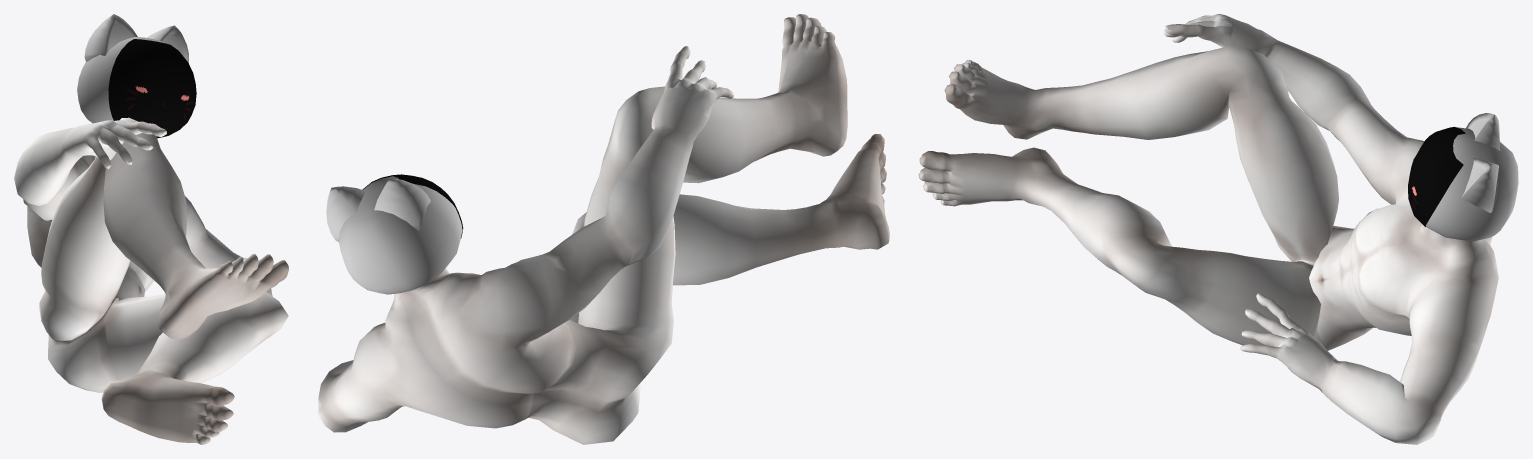
3 renders of one model, left to right at view 1: azimuth 30°, elevation 25°; view 2: azimuth 150°, elevation 25°; view 3: azimuth 270°, elevation 25°, orthographic. The views are drawn at different scales.
Visible parts, largest first — view 1: Muscle_Body, ______?001, Cat_Head; view 2: Muscle_Body, Cat_Head; view 3: Muscle_Body, Cat_Head, ______?001.
Boxes of the visible parts, x1,y1,x2,y2 form: Muscle_Body: [14, 117, 288, 444]; ______?001: [108, 39, 196, 138]; Cat_Head: [77, 14, 188, 123]; Muscle_Body: [317, 14, 889, 444]; Cat_Head: [326, 176, 462, 294]; Muscle_Body: [918, 14, 1498, 444]; Cat_Head: [1425, 113, 1518, 241]; ______?001: [1408, 126, 1465, 226].
Size of the model in its own units: 14.1 by 12.44 by 21.15.
